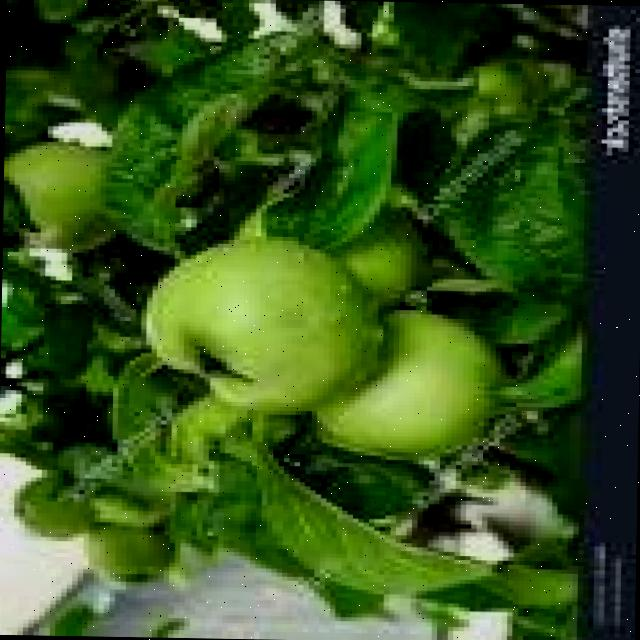Unripe: (142, 232, 388, 414)
